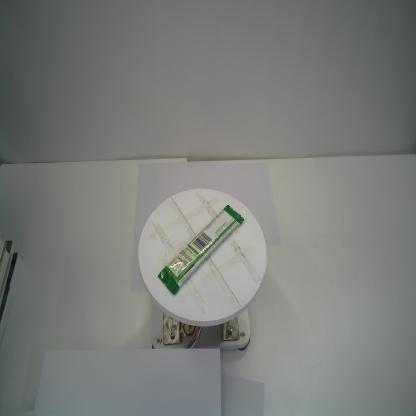Chocolate: (157, 203, 245, 296)
